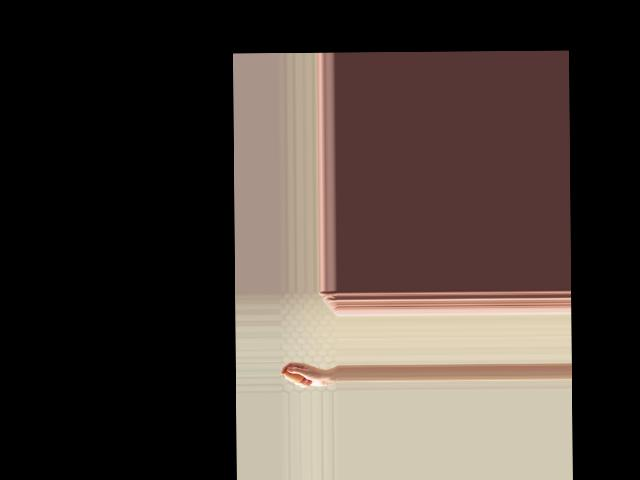egg: (284, 368, 304, 383)
